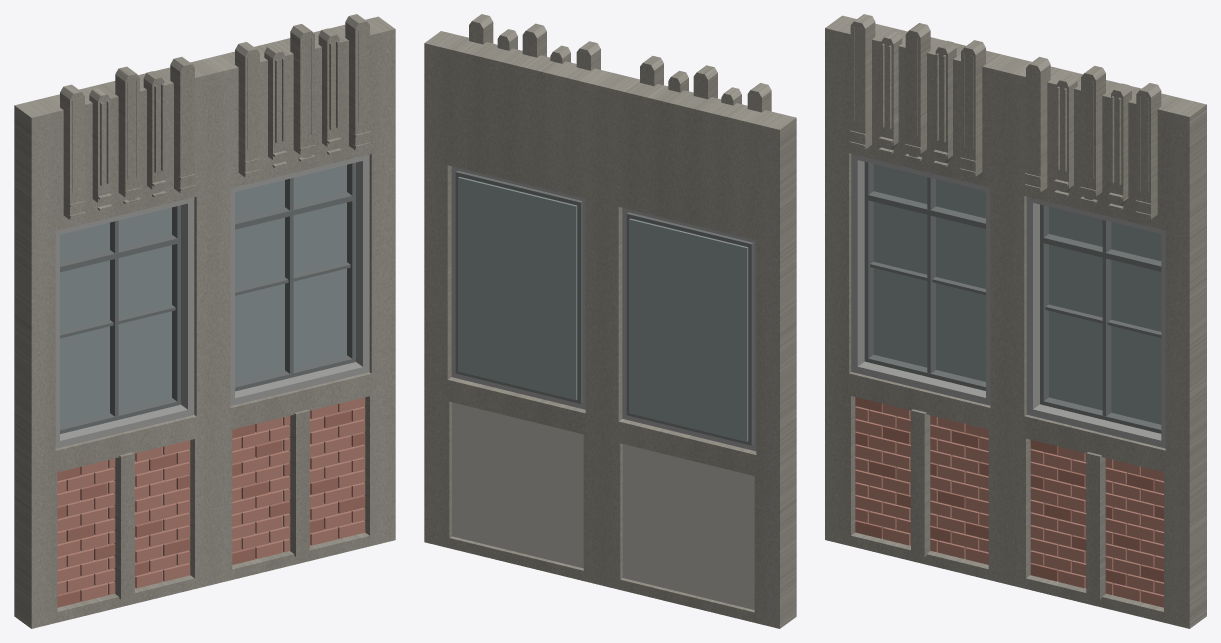
File: huayi-printing-works-fluted-parapet-near.glb
3 views of the same model, side by side, from view 1: azimuth 30°, elevation 25°; view 2: azimuth 150°, elevation 25°; view 3: azimuth 330°, elevation 25° (orthographic). The views are drawn at different scales.
Parts seen in each view (by area): view 1: 华一印刷股份有限公司旧址竖槽女儿墙与砖填窗间; view 2: 华一印刷股份有限公司旧址竖槽女儿墙与砖填窗间; view 3: 华一印刷股份有限公司旧址竖槽女儿墙与砖填窗间.
Boxes of the visible parts, x1=… form: 华一印刷股份有限公司旧址竖槽女儿墙与砖填窗间: x1=14, y1=14, x2=395, y2=628; 华一印刷股份有限公司旧址竖槽女儿墙与砖填窗间: x1=424, y1=14, x2=796, y2=628; 华一印刷股份有限公司旧址竖槽女儿墙与砖填窗间: x1=825, y1=14, x2=1206, y2=628.
Bounding box in the file's own units: 2.08 × 2.92 × 0.242.
Materials: 7 (1 with a texture image).
